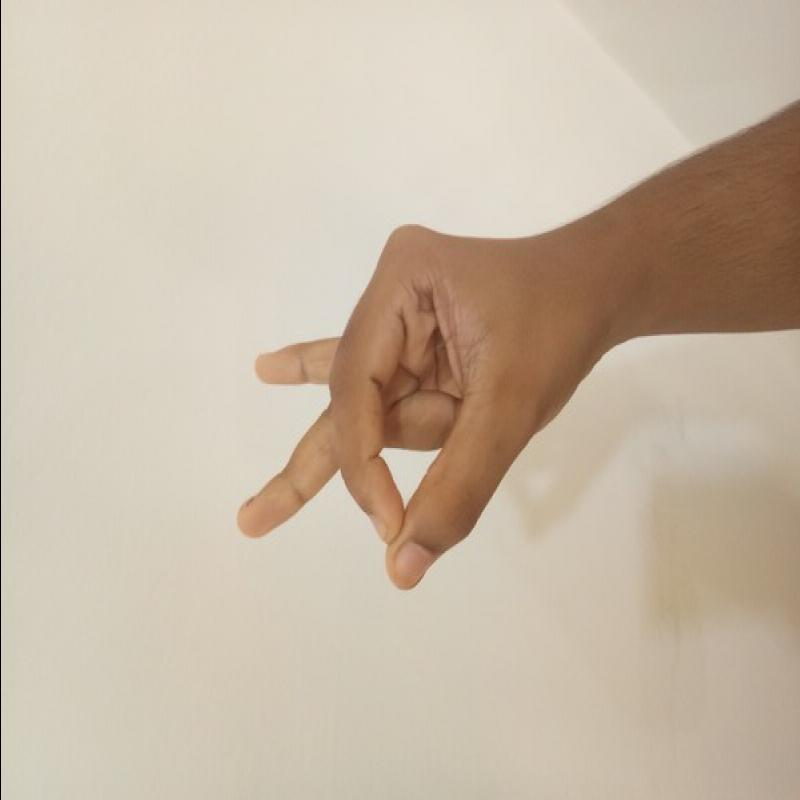Katakam: (200, 186, 617, 597)
